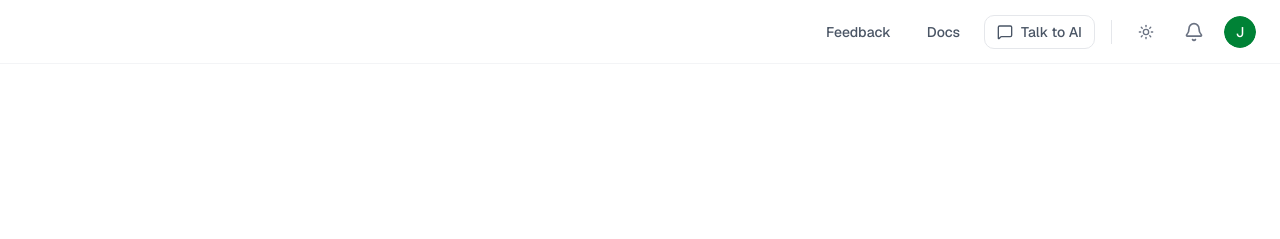
Scenario: DashboardHeader Component › User Display › should display first name only when last name is missing
The width and height of the screenshot is (1280, 239).
Step 1. Click the button "J" → {"x": 1240, "y": 32}, box [1224,16,1256,48]
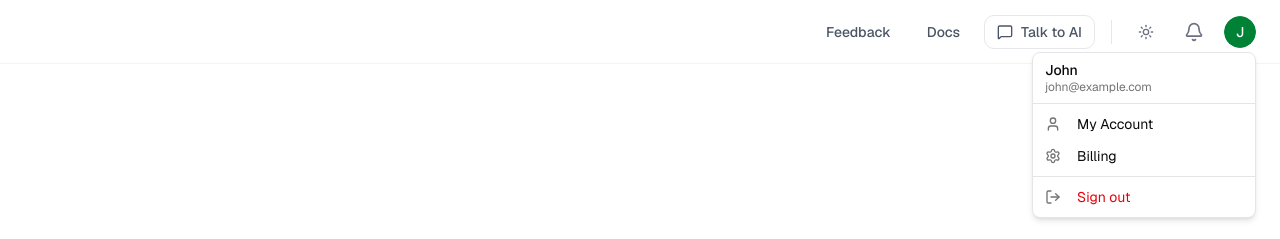
Expected: the text "John" is shown, [1045,61,1078,79]
